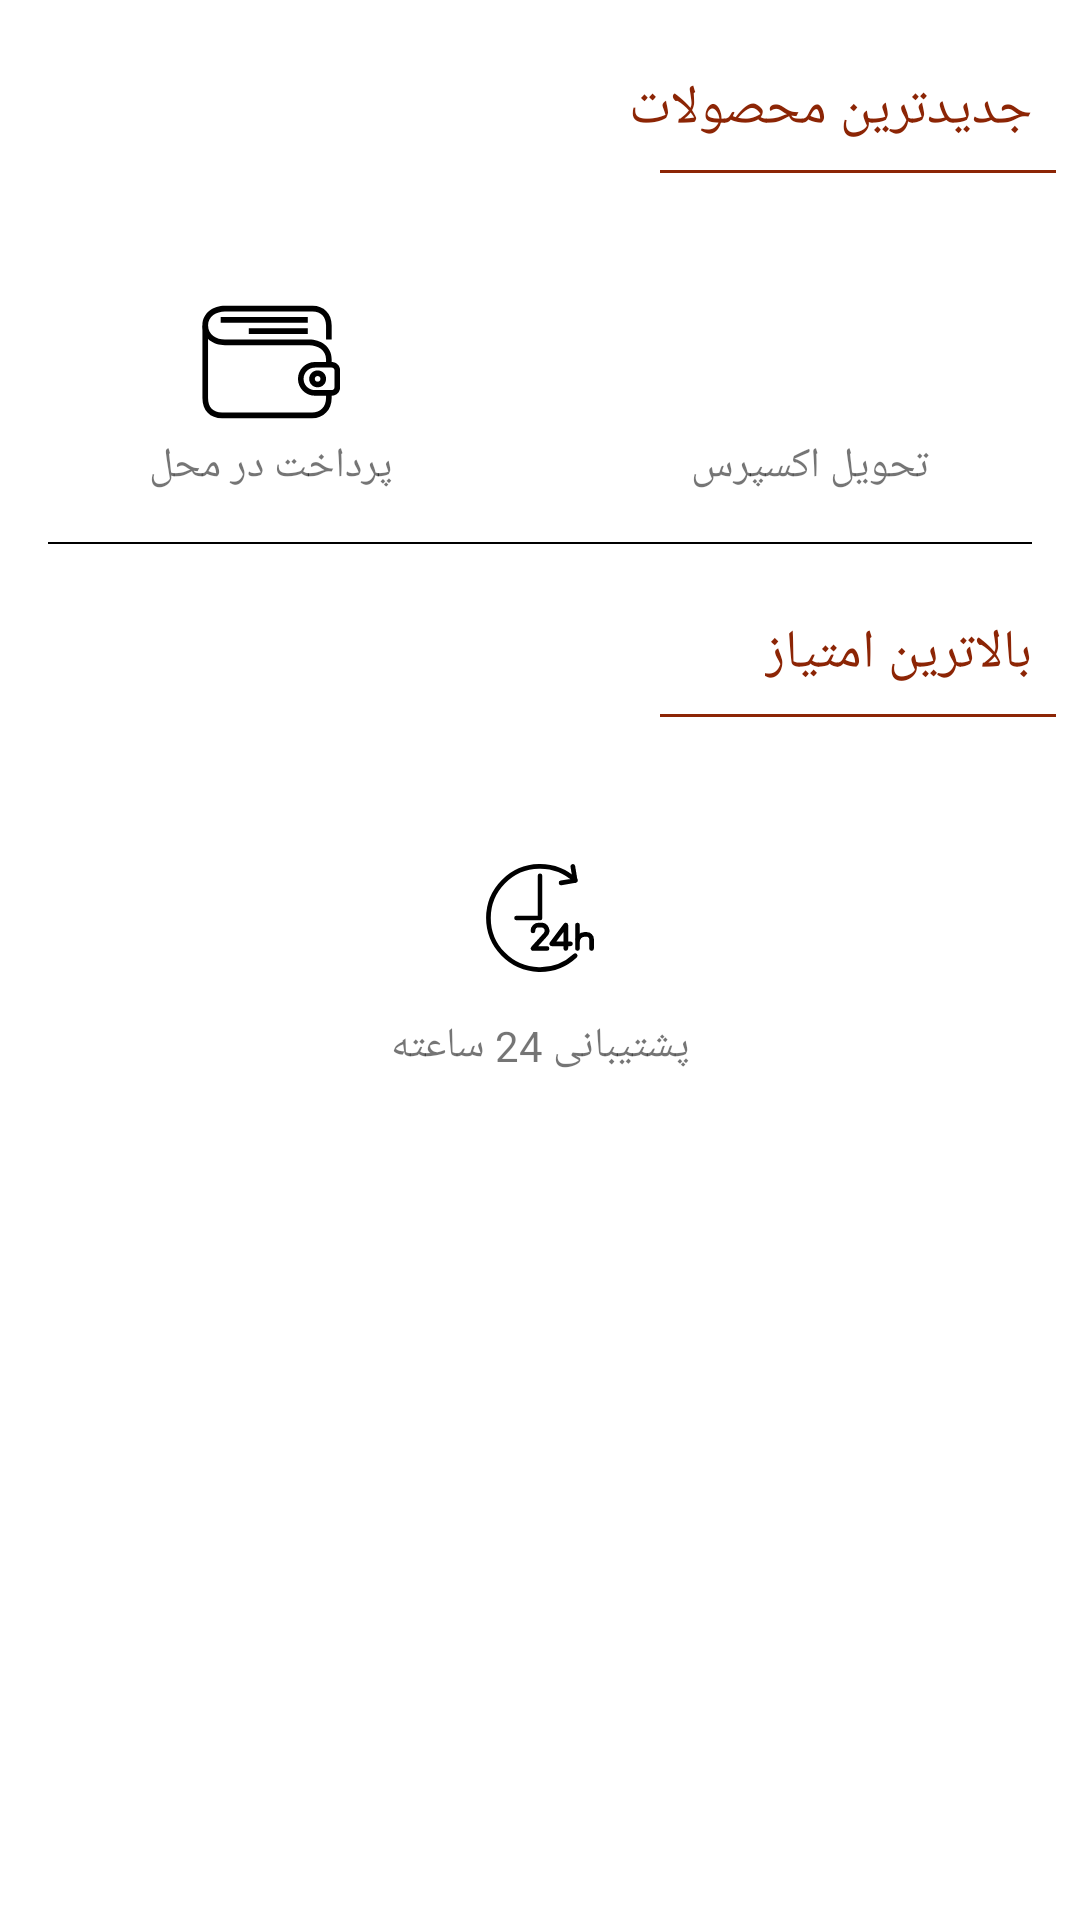

Point at icon controls on the screen. Image size 1080 × 1920, points as (x=x, y=y).
iconfinder hours open: (x=540, y=918)
iconfinder wallet: (x=271, y=362)
